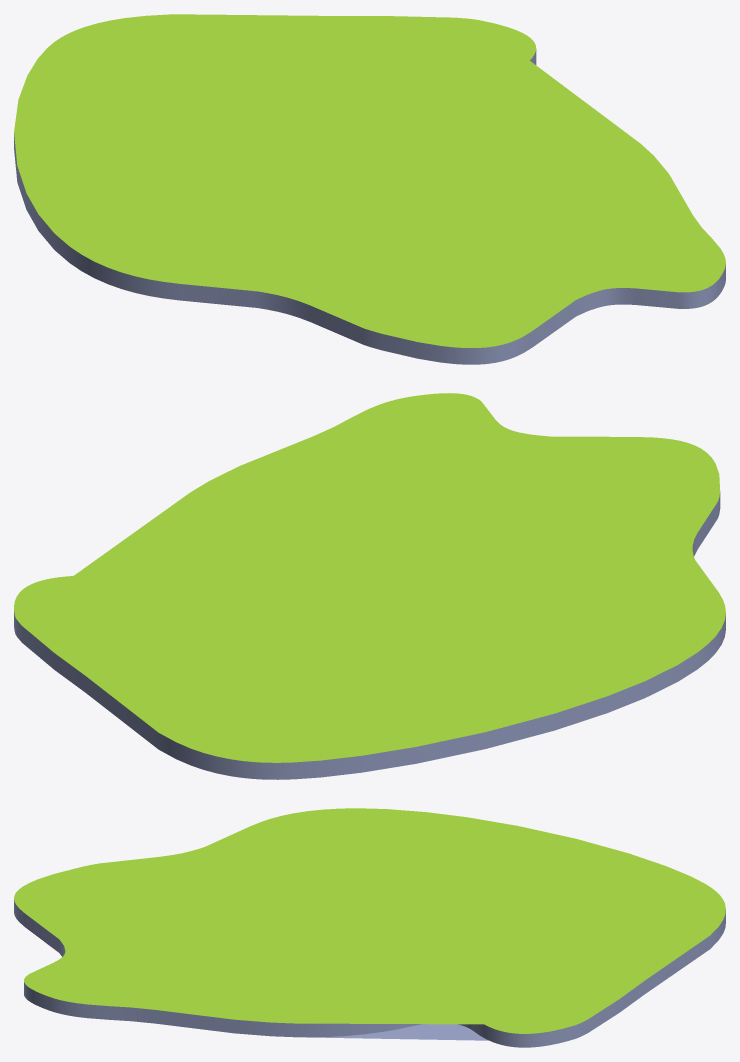
The model's file is Lastholes18.fbx.
3 renders of one model, top to bottom at view 1: azimuth 30°, elevation 25°; view 2: azimuth 150°, elevation 25°; view 3: azimuth 270°, elevation 25°, orthographic. The views are drawn at different scales.
Visible parts, largest first — view 1: mainRes_2; view 2: mainRes_2; view 3: mainRes_2.
Part boxes in pixels (x1,y1,x2,y2): mainRes_2: (14,14,725,364); mainRes_2: (14,393,725,779); mainRes_2: (14,808,725,1047).
Bounding box in the file's own units: 1058 × 30 × 1411.
